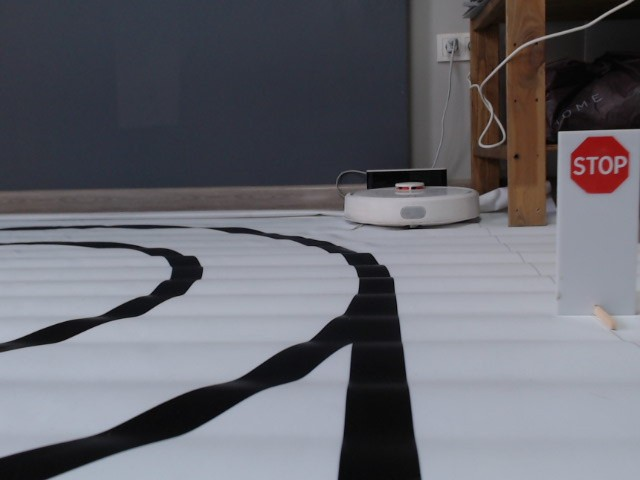Stop: (569, 135, 632, 196)
